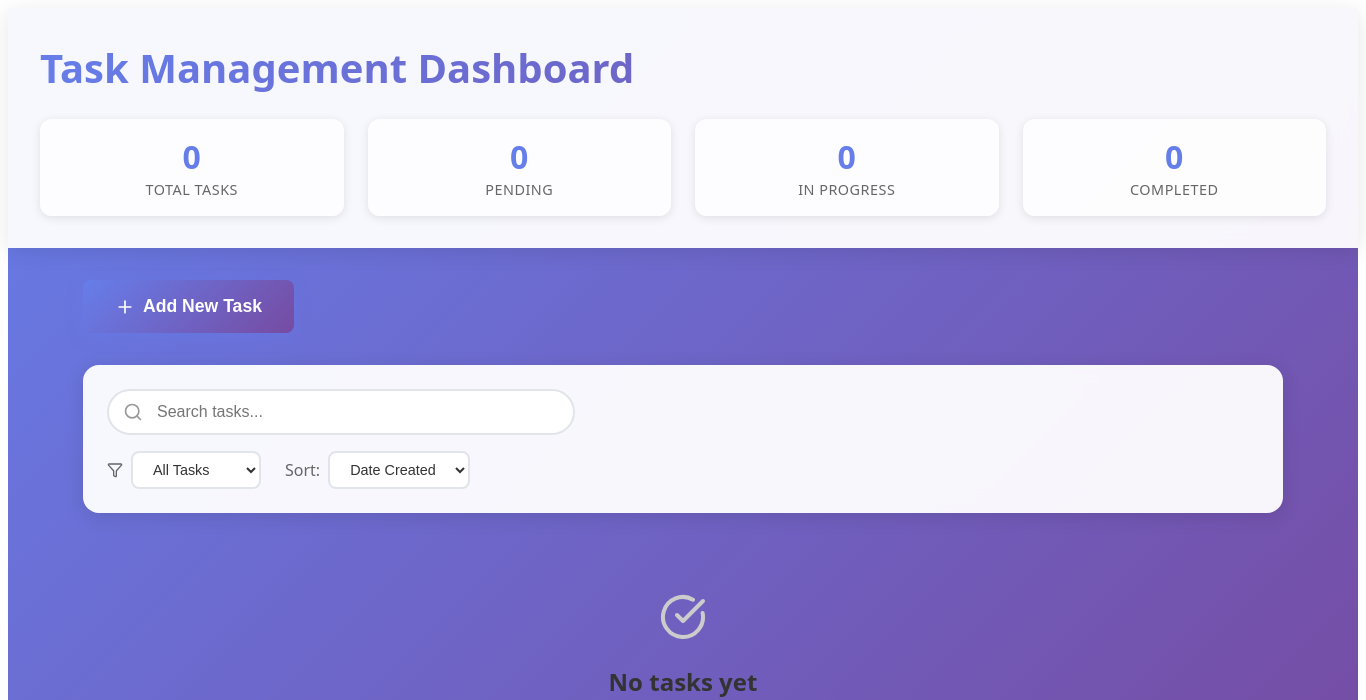
Scenario: TaskDashboard Integration Tests › validates form input before adding task
Click the button "Add New Task". click: (188, 306)
box: [83, 280, 294, 333]
(page scrolled)
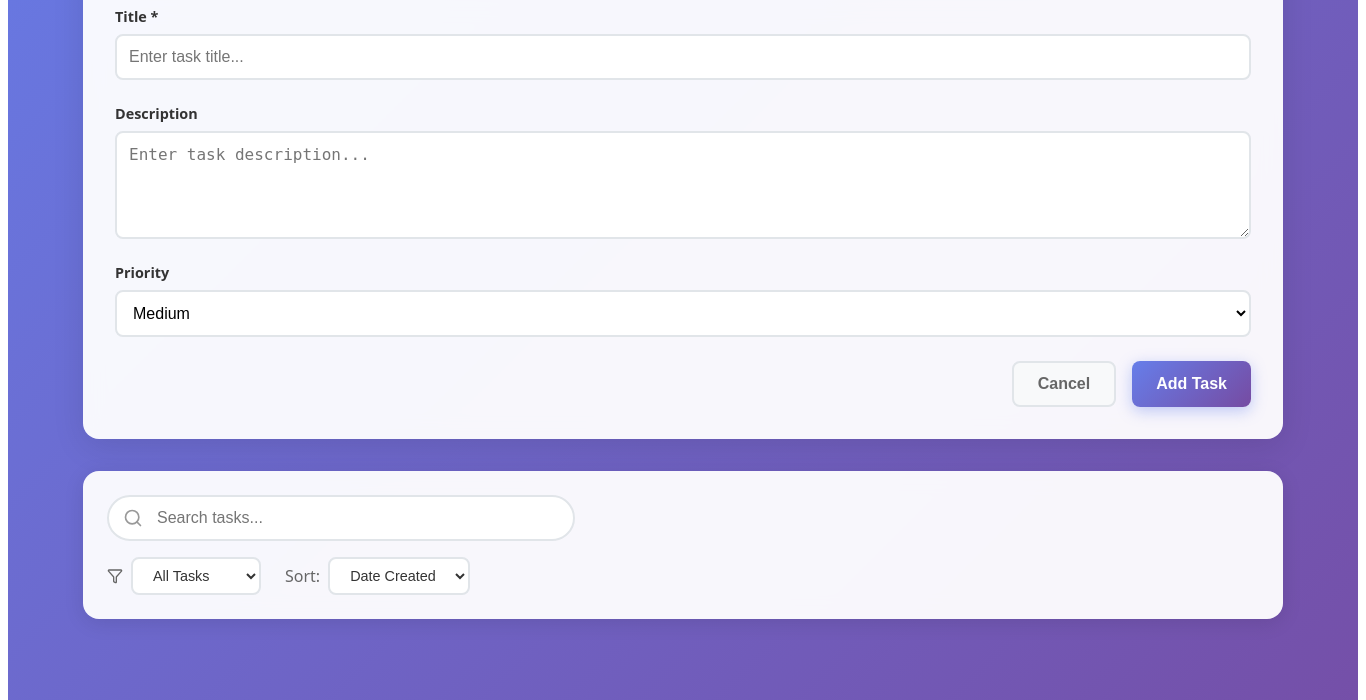
Click the button "Add Task". click: (1192, 384)
box: [1132, 361, 1251, 407]
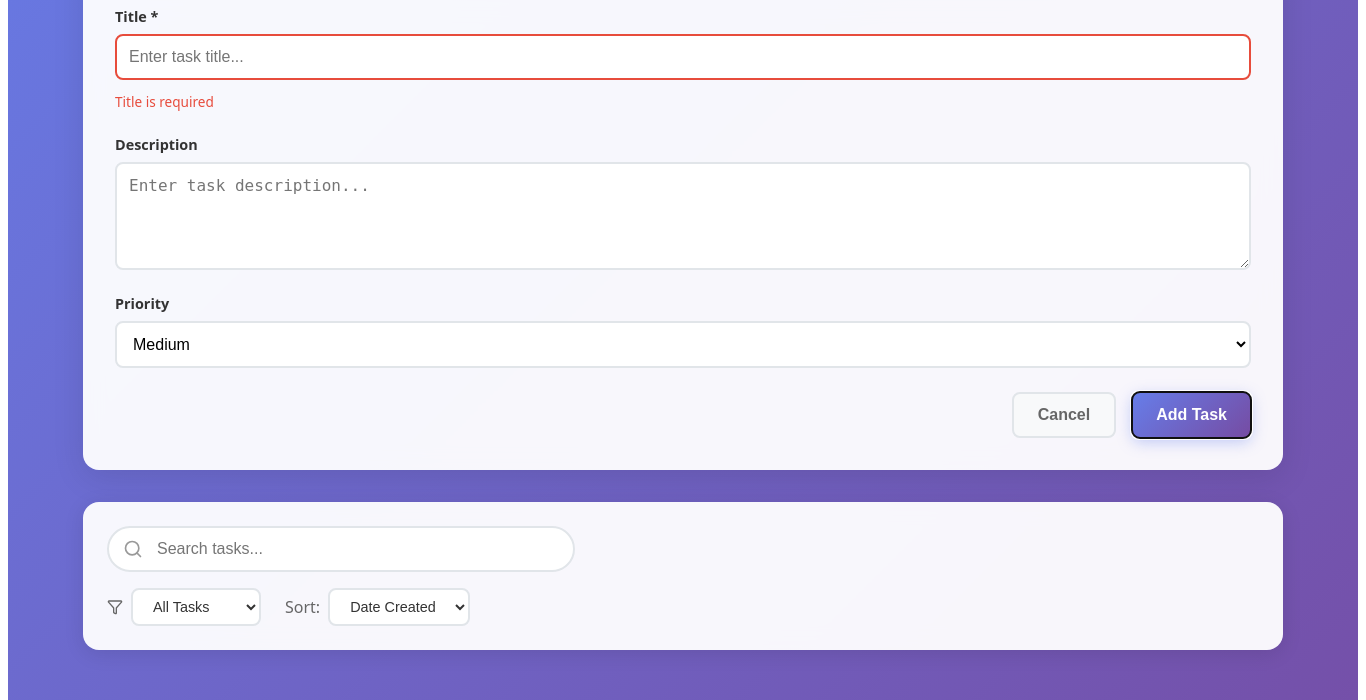
Now the text "Title is required" is shown, box [115, 92, 214, 111]
